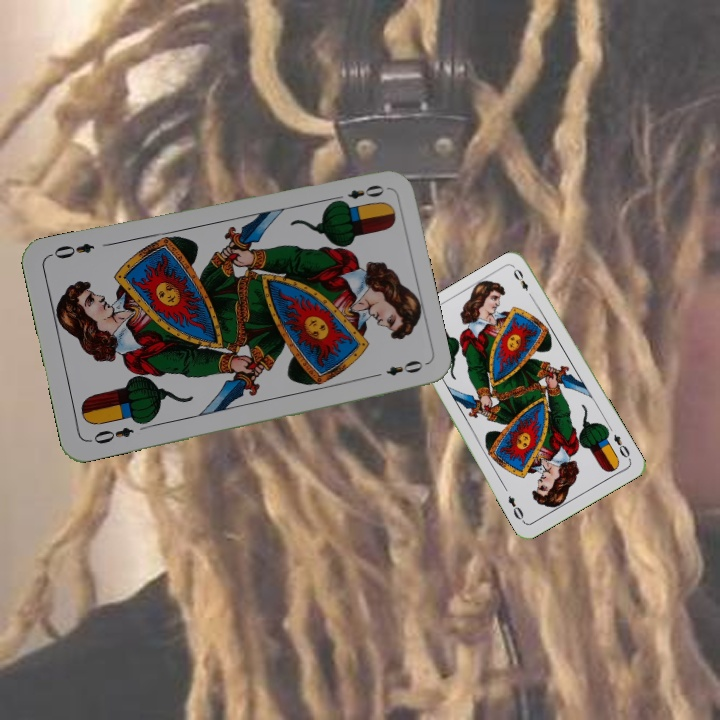EO: (329, 180, 387, 207), (85, 423, 136, 447), (609, 430, 633, 463)
